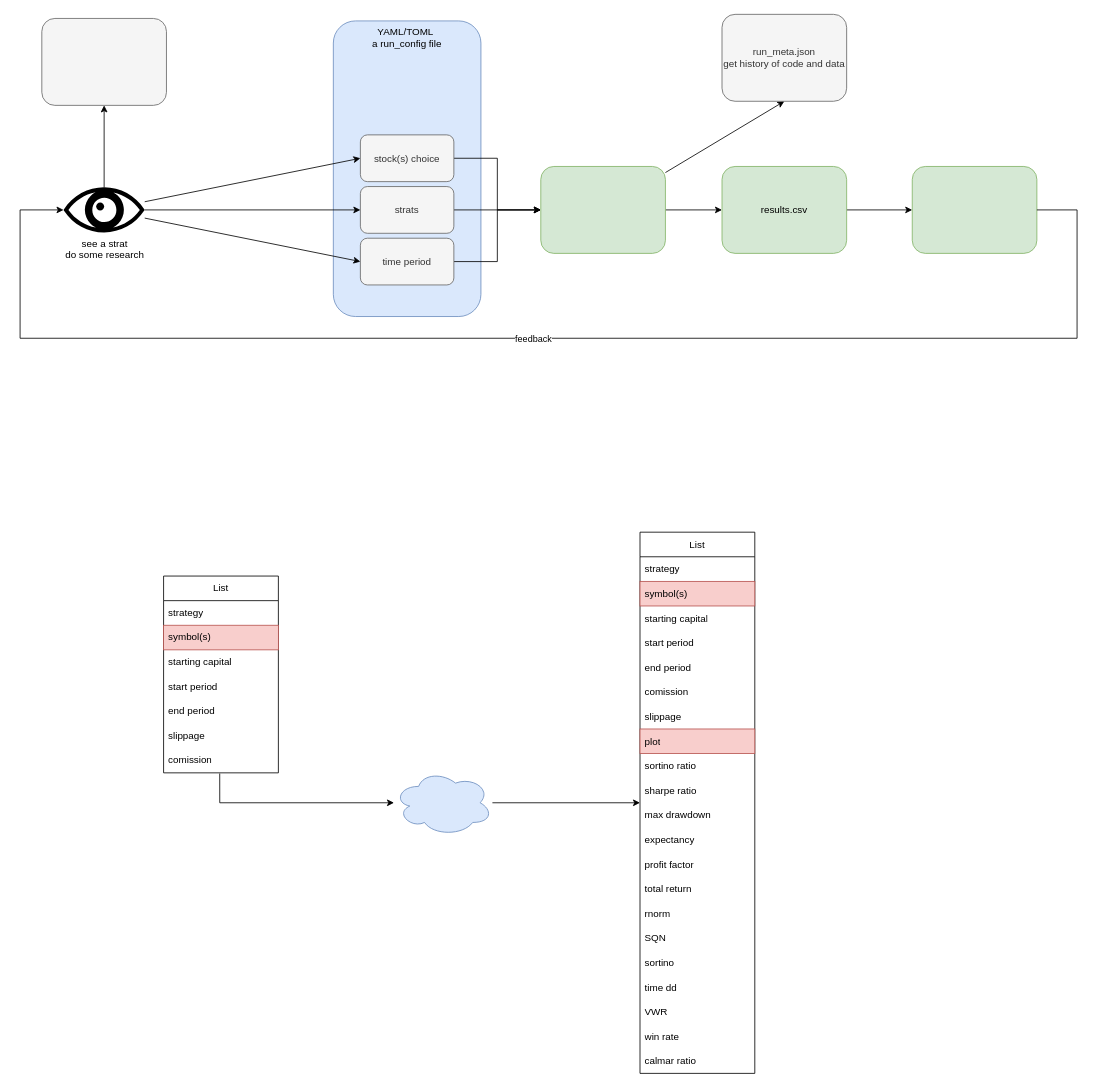
This 1098x1088 diagram has some shape labels left out. The shapes that lost their labels are listed below. From the top down, each one's centre as x and y in pixels, then its label:
At point 103,61: "decision to actualy use Strategy X".
At point 602,209: "backtrader_test".
At point 974,209: "Power BI".
